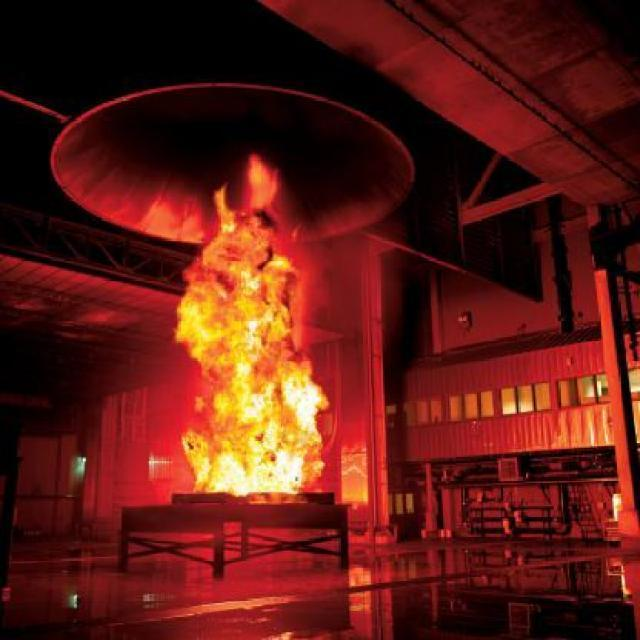Fire: (176, 210, 332, 500)
